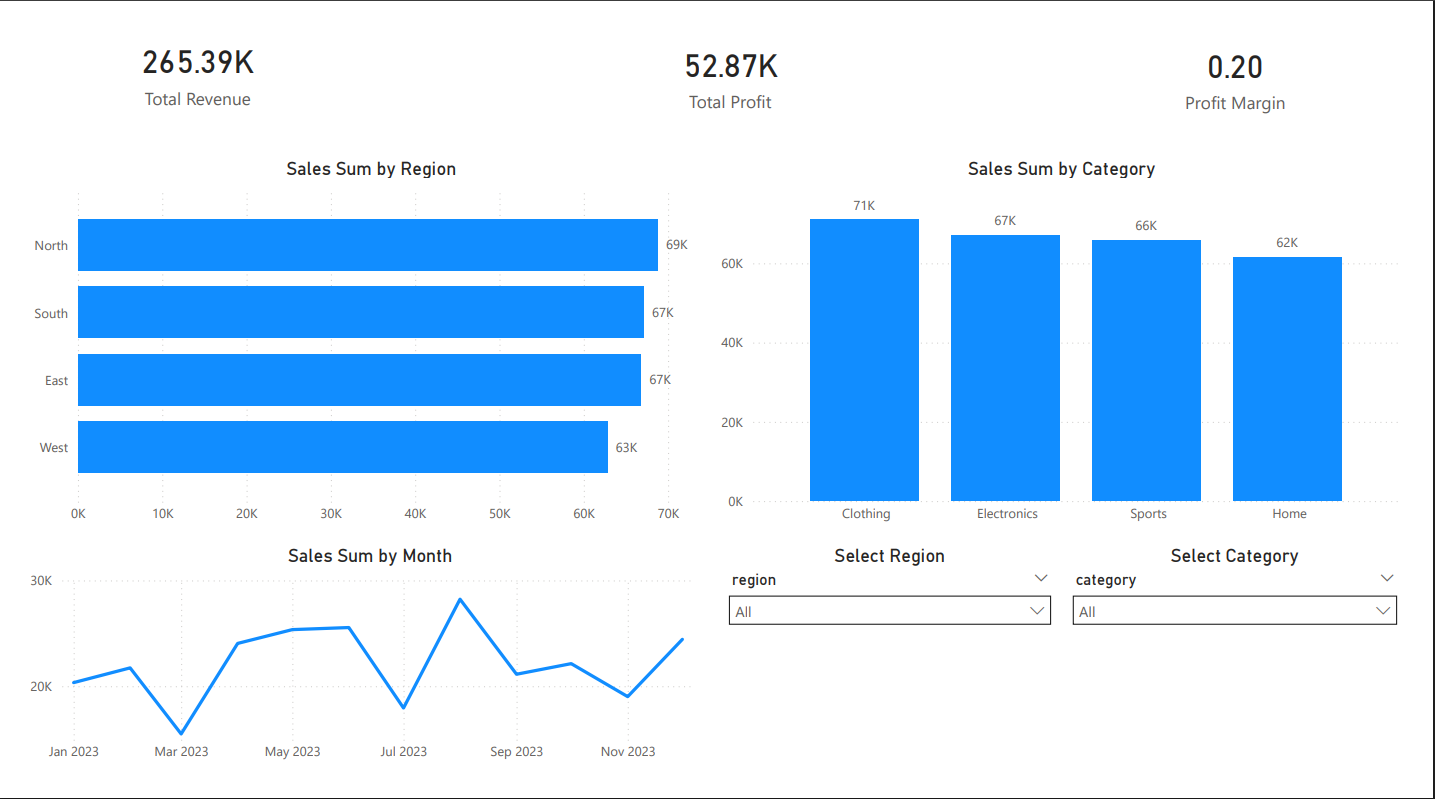

The dashboard page shown, as its layout file describes it:
{"tool":"powerbi","page":{"name":"Page 1","canvas":[1280,720],"ordinal":0},"visuals":[{"type":"card","fields":{"Values":["retail_sales.Total Revenue"]},"box":[0,0,319.8,142.6],"z":0},{"type":"card","fields":{"Values":["retail_sales.Total Profit"]},"box":[450.9,0,402.7,150.3],"z":1000},{"type":"card","fields":{"Values":["retail_sales.Profit Margin"]},"box":[959.5,0,319.8,152.2],"z":2000},{"type":"clusteredBarChart","title":"Sales Sum by Region","fields":{"Category":["retail_sales.region"],"Y":["Sum(retail_sales.sales_amount)"]},"box":[0,151.3,640.7,347.8],"z":3000},{"type":"clusteredColumnChart","title":"Sales Sum by Category","fields":{"Category":["retail_sales.category"],"Y":["Sum(retail_sales.sales_amount)"]},"box":[638.7,151.2,640.6,347.7],"z":4000},{"type":"lineChart","fields":{"Category":["retail_sales.order_date.Variation.Date Hierarchy.Year","retail_sales.order_date.Variation.Date Hierarchy.Quarter","retail_sales.order_date.Variation.Date Hierarchy.Month","retail_sales.order_date.Variation.Date Hierarchy.Day"]},"box":[0,509,641,211],"z":5000},{"type":"lineChart","title":"Sales Sum by Month","fields":{"Y":["Sum(retail_sales.sales_amount)"],"Category":["retail_sales.order_date (bins)"]},"box":[0,508.7,638.7,210.4],"z":6000},{"type":"slicer","title":"Select Region","fields":{"Values":["retail_sales.region"]},"box":[640.7,508.6,318.4,211.6],"z":6001},{"type":"slicer","title":"Select Category","fields":{"Values":["retail_sales.category"]},"box":[959,508.6,320.3,211.6],"z":6002}]}

Visuals, with their boxes in screenshot pixels (x1, y1, x2, y2), scaled from the page's 1280x720 canvas onto the 1435x799 screenshot:
card - retail_sales.Total Revenue: 0/0/359/158
card - retail_sales.Total Profit: 506/0/957/167
card - retail_sales.Profit Margin: 1076/0/1434/169
"Sales Sum by Region" clusteredBarChart: 0/168/718/554
"Sales Sum by Category" clusteredColumnChart: 716/168/1434/554
lineChart - retail_sales.order_date.Variation.Date Hierarchy.Year x retail_sales.order_date.Variation.Date Hierarchy.Quarter: 0/565/719/798
"Sales Sum by Month" lineChart: 0/565/716/798
"Select Region" slicer: 718/564/1075/798
"Select Category" slicer: 1075/564/1434/798
